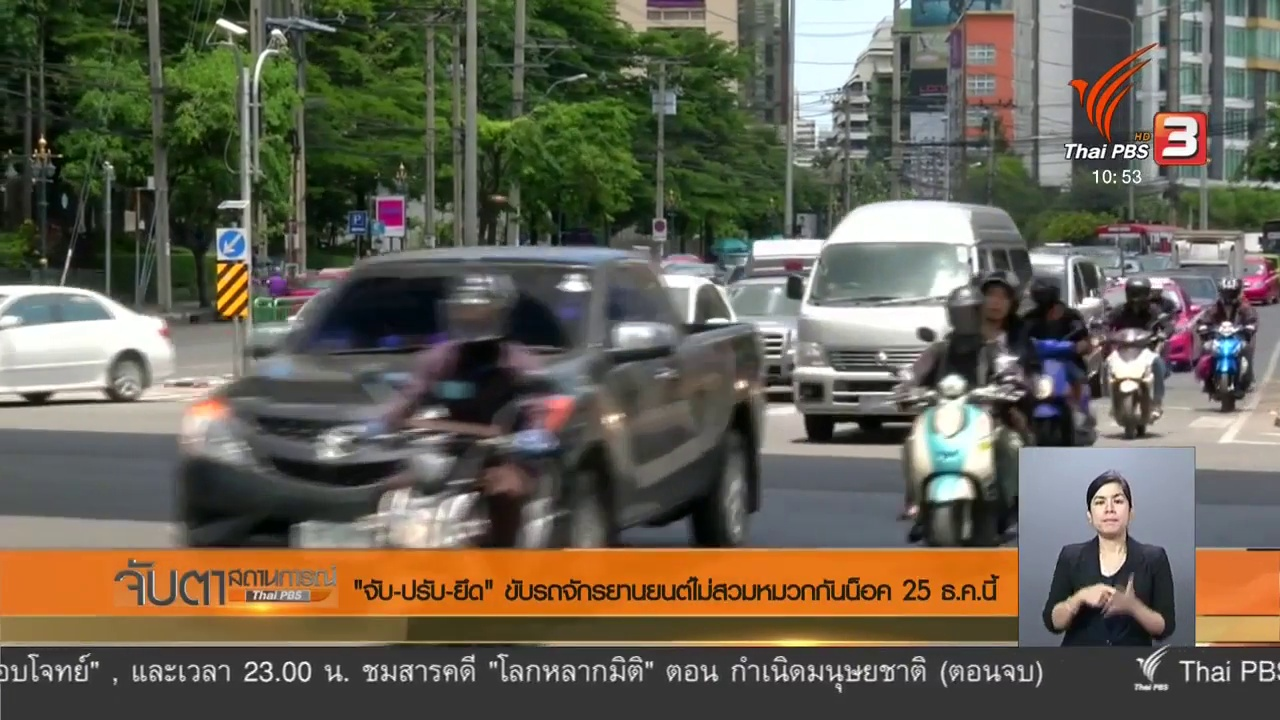helmet: (443, 273, 529, 349), (938, 285, 986, 323), (990, 256, 1019, 318), (1116, 265, 1152, 301), (1212, 270, 1245, 304), (1031, 268, 1063, 301)
